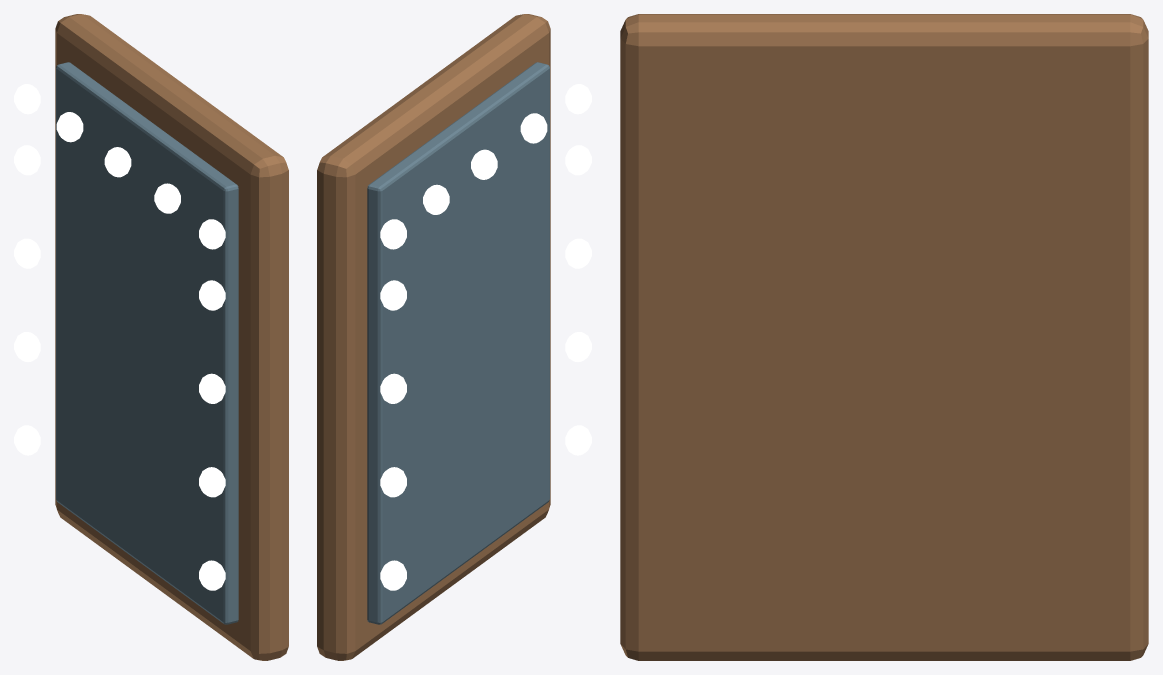
The model's file is SM_Menu_VanityMirror.fbx.
The picture shows the model from 3 angles, left to right: view 1: azimuth 30°, elevation 25°; view 2: azimuth 150°, elevation 25°; view 3: azimuth 270°, elevation 25°; orthographic projection. The views are drawn at different scales.
Visible parts, largest first — view 1: Timber.069_Baked; view 2: Timber.069_Baked; view 3: Timber.069_Baked.
Part boxes in pixels (left/top/right/bottom): Timber.069_Baked: left=14, top=14, right=288, bottom=660; Timber.069_Baked: left=317, top=14, right=591, bottom=660; Timber.069_Baked: left=620, top=14, right=1148, bottom=660.
Size of the model in its own units: 26.61 by 117 by 156.
